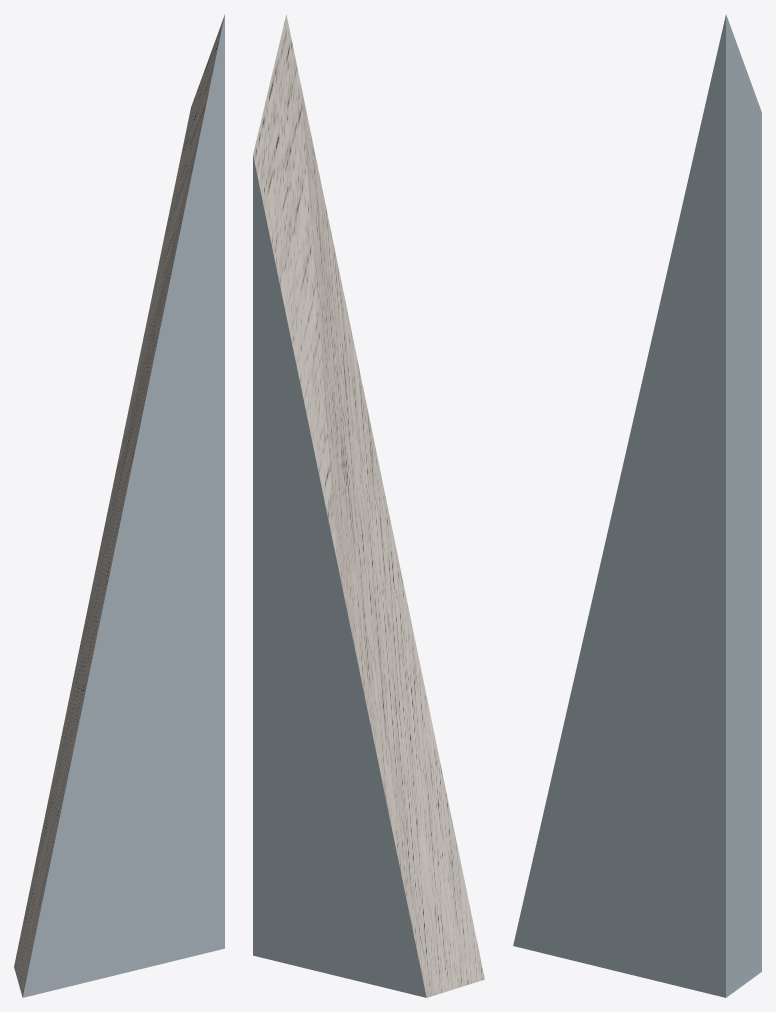
File: glass7.glb
3 renders of one model, left to right at view 1: azimuth 30°, elevation 25°; view 2: azimuth 150°, elevation 25°; view 3: azimuth 330°, elevation 25°, orthographic. The views are drawn at different scales.
Visible parts, largest first — view 1: broken_window_cell.006; view 2: broken_window_cell.006; view 3: broken_window_cell.006.
Part boxes in pixels (bbox=[...]): broken_window_cell.006: bbox=[14, 14, 224, 997]; broken_window_cell.006: bbox=[253, 14, 484, 997]; broken_window_cell.006: bbox=[513, 14, 761, 997].
Size of the model in its own units: 0.1617 by 0.7139 by 0.0471.
2 materials, 1 textured.
